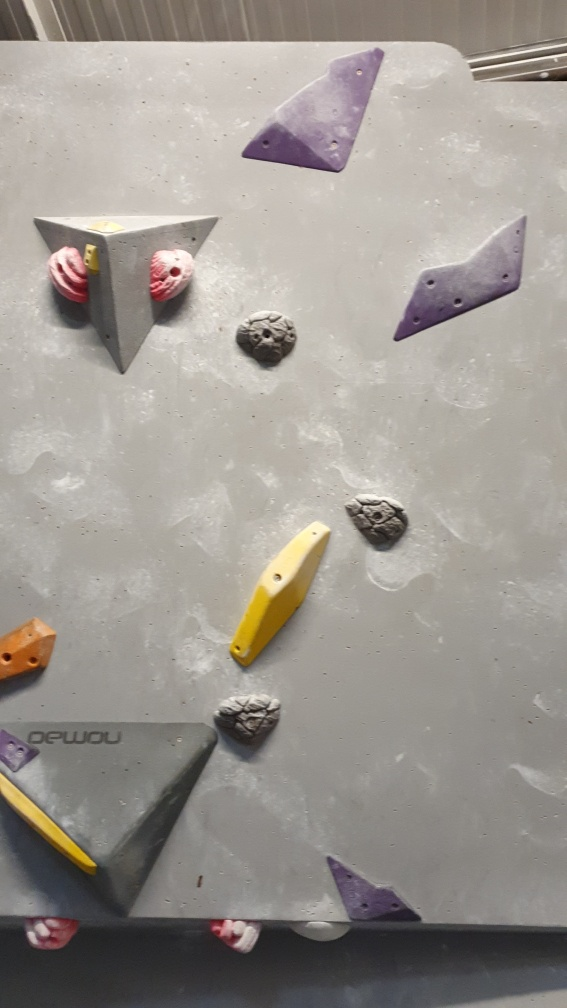Jug: (346, 495, 417, 552), (216, 689, 281, 747), (232, 308, 299, 364), (145, 248, 198, 309), (46, 247, 87, 305), (211, 917, 265, 958), (27, 919, 85, 953)
Pinch: (228, 517, 334, 670), (1, 619, 60, 695)
